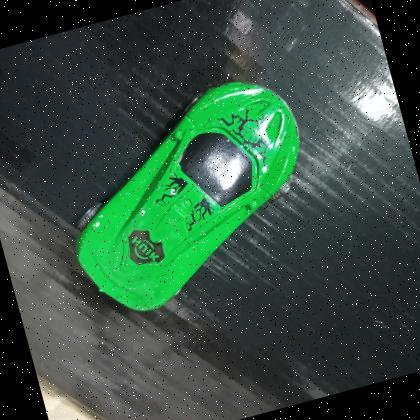Car: (74, 80, 300, 311)
